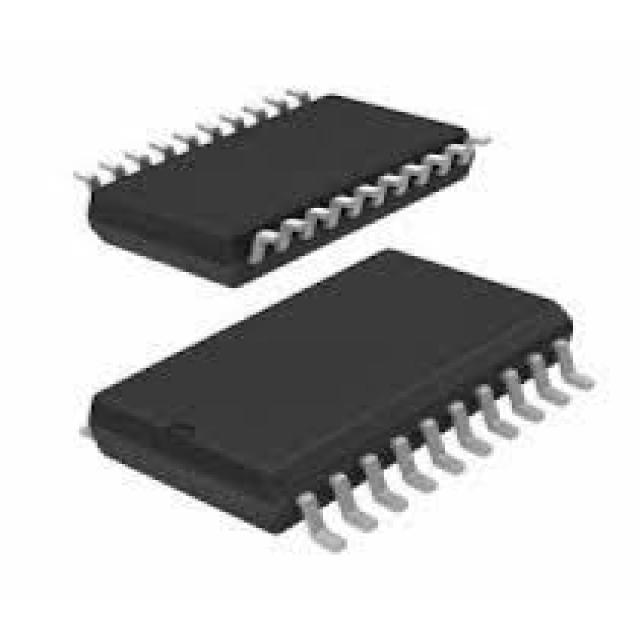IC: (90, 249, 588, 543), (78, 85, 483, 287)
